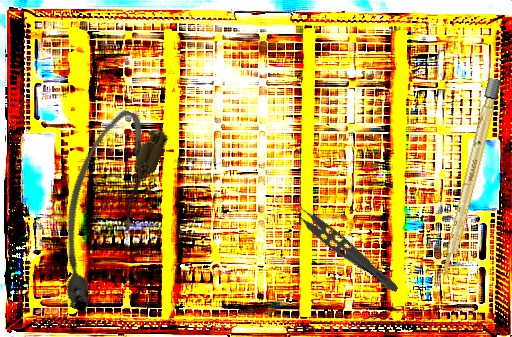Cannula: (31, 102, 172, 318)
Scalpel Handle: (439, 77, 502, 280)
Tissue Forceps: (286, 197, 407, 296)
